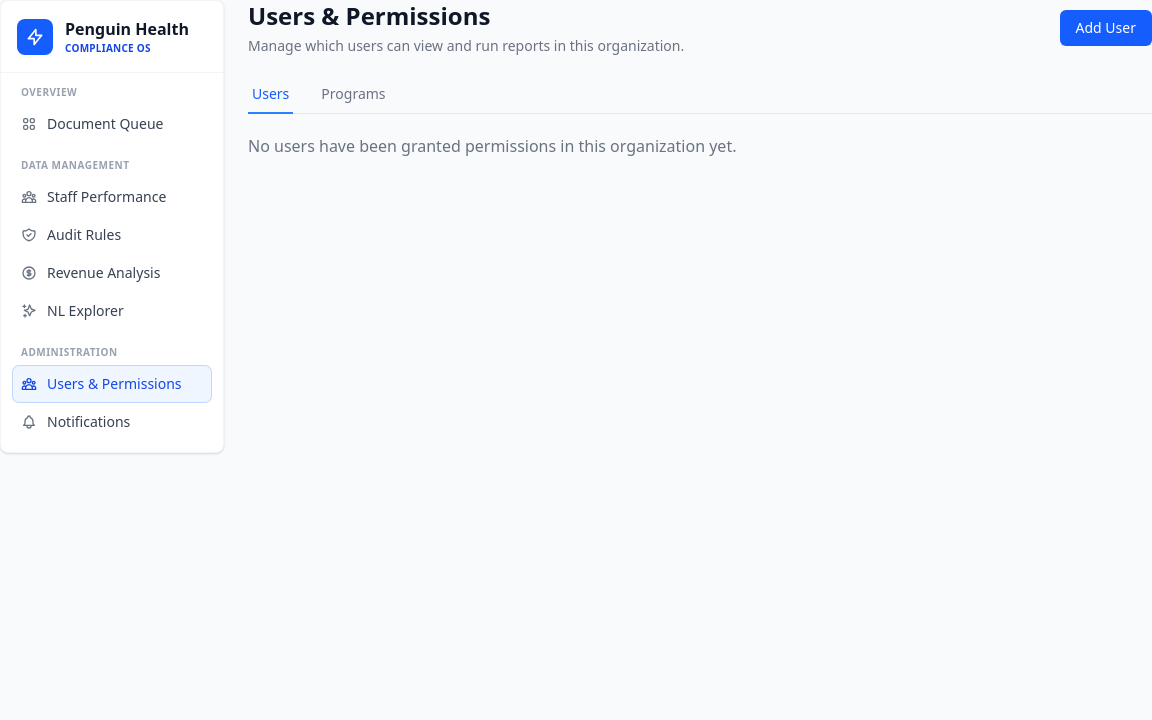
UsersPage › program permissions › renders program checkboxes from the org list and saves the selection
The image size is (1152, 720).
Check: the text "No users have been granted permissions" is shown, box [248, 135, 736, 157]
Click the button "Add User": (1106, 28) [1060, 10, 1151, 46]
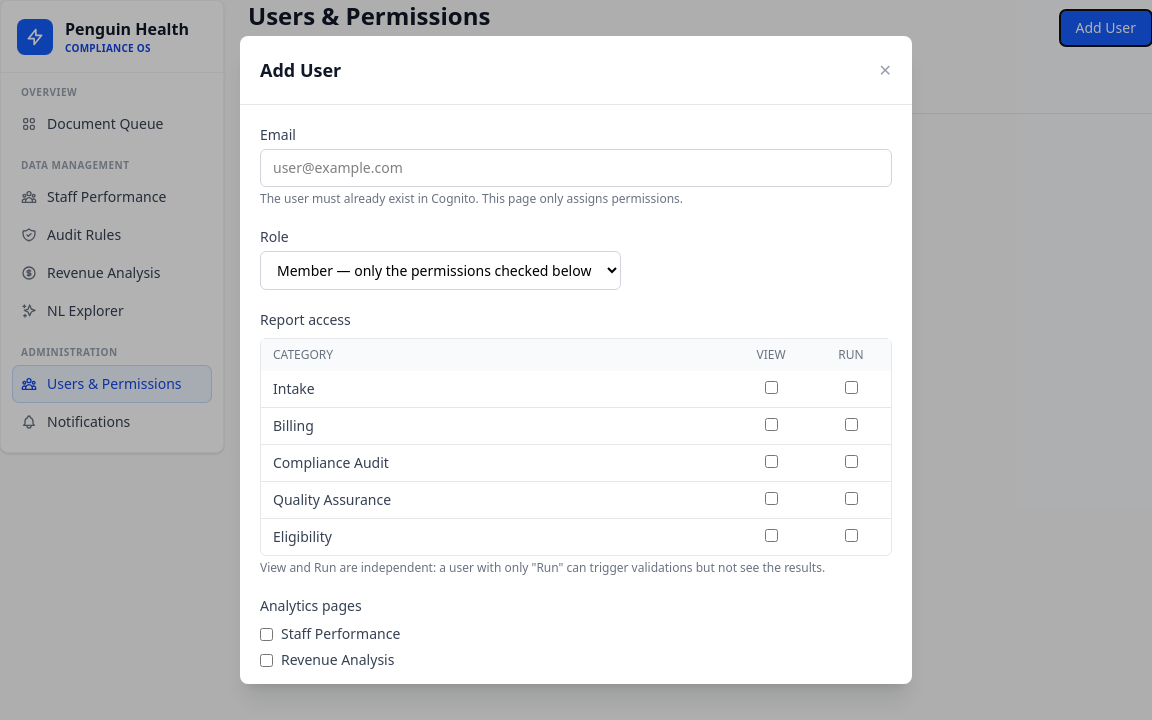
In the field with placeholder "user@example.com": (576, 168) [260, 149, 892, 187], type "prog@clinic.com"
(page scrolled)
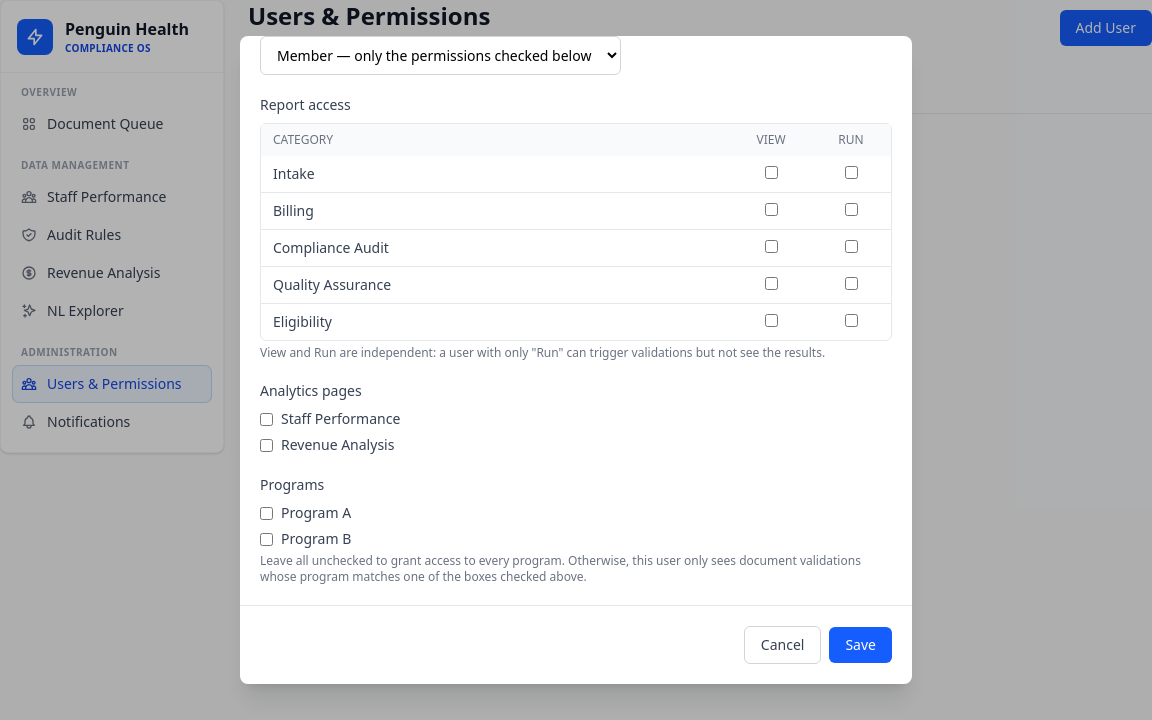
Click the checkbox named "Program Program A": (266, 513) [260, 506, 273, 520]
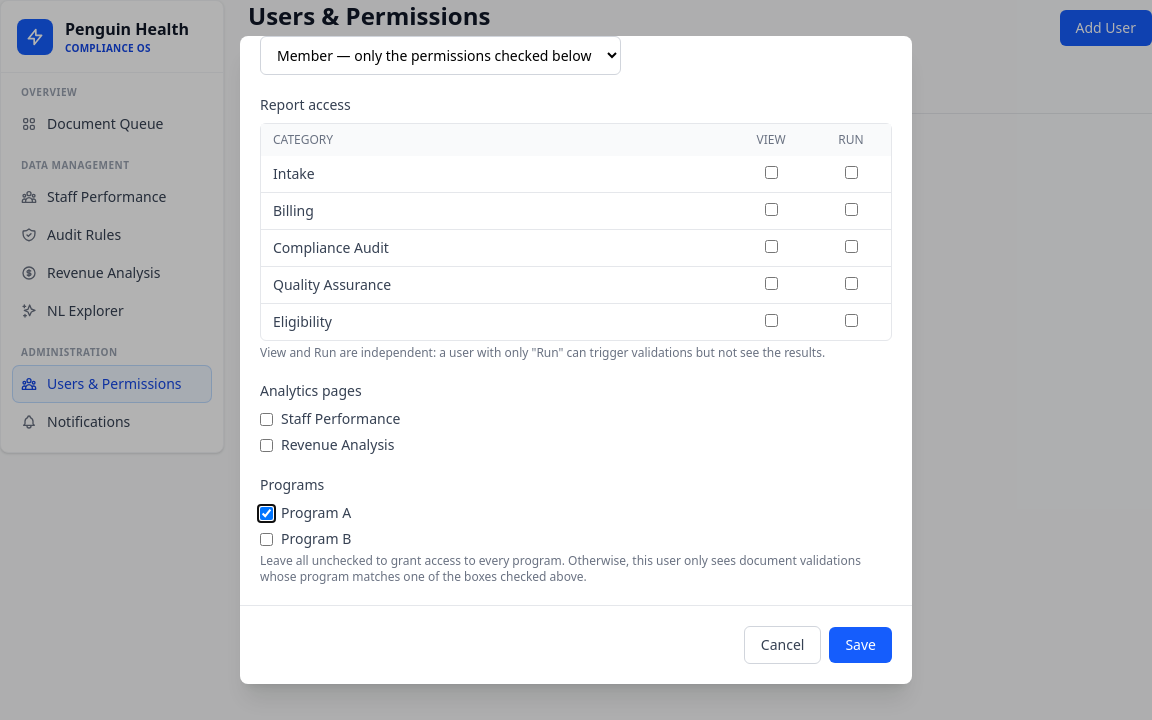
Click the button "Save": (861, 645) [829, 627, 892, 663]
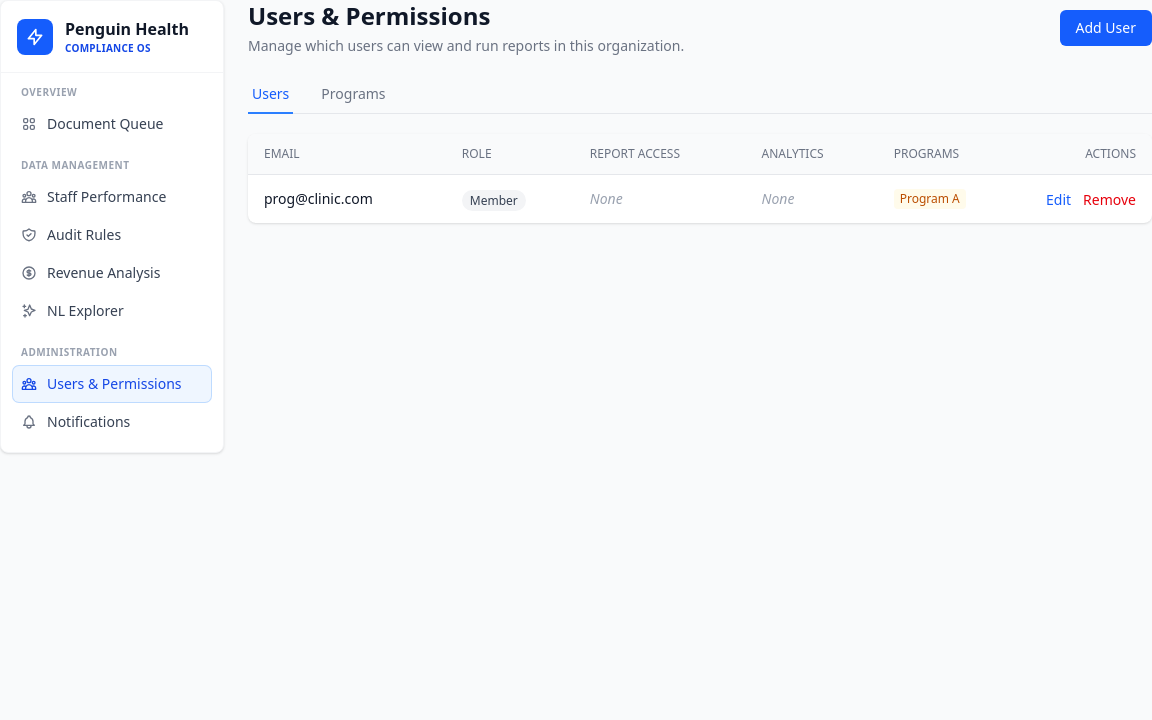
Check: the text "prog@clinic.com" is shown, box [248, 174, 446, 223]
